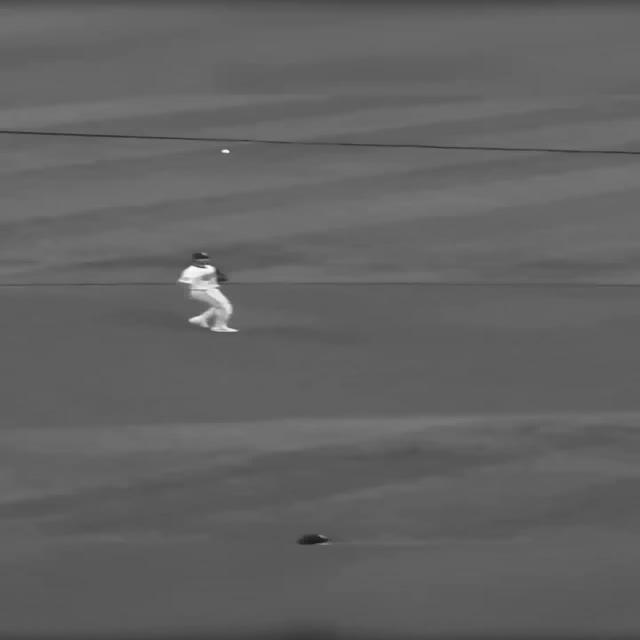baseball: (220, 148, 230, 154)
baseball_glove: (214, 270, 228, 282)
shoe: (188, 316, 208, 328), (210, 326, 238, 332)
